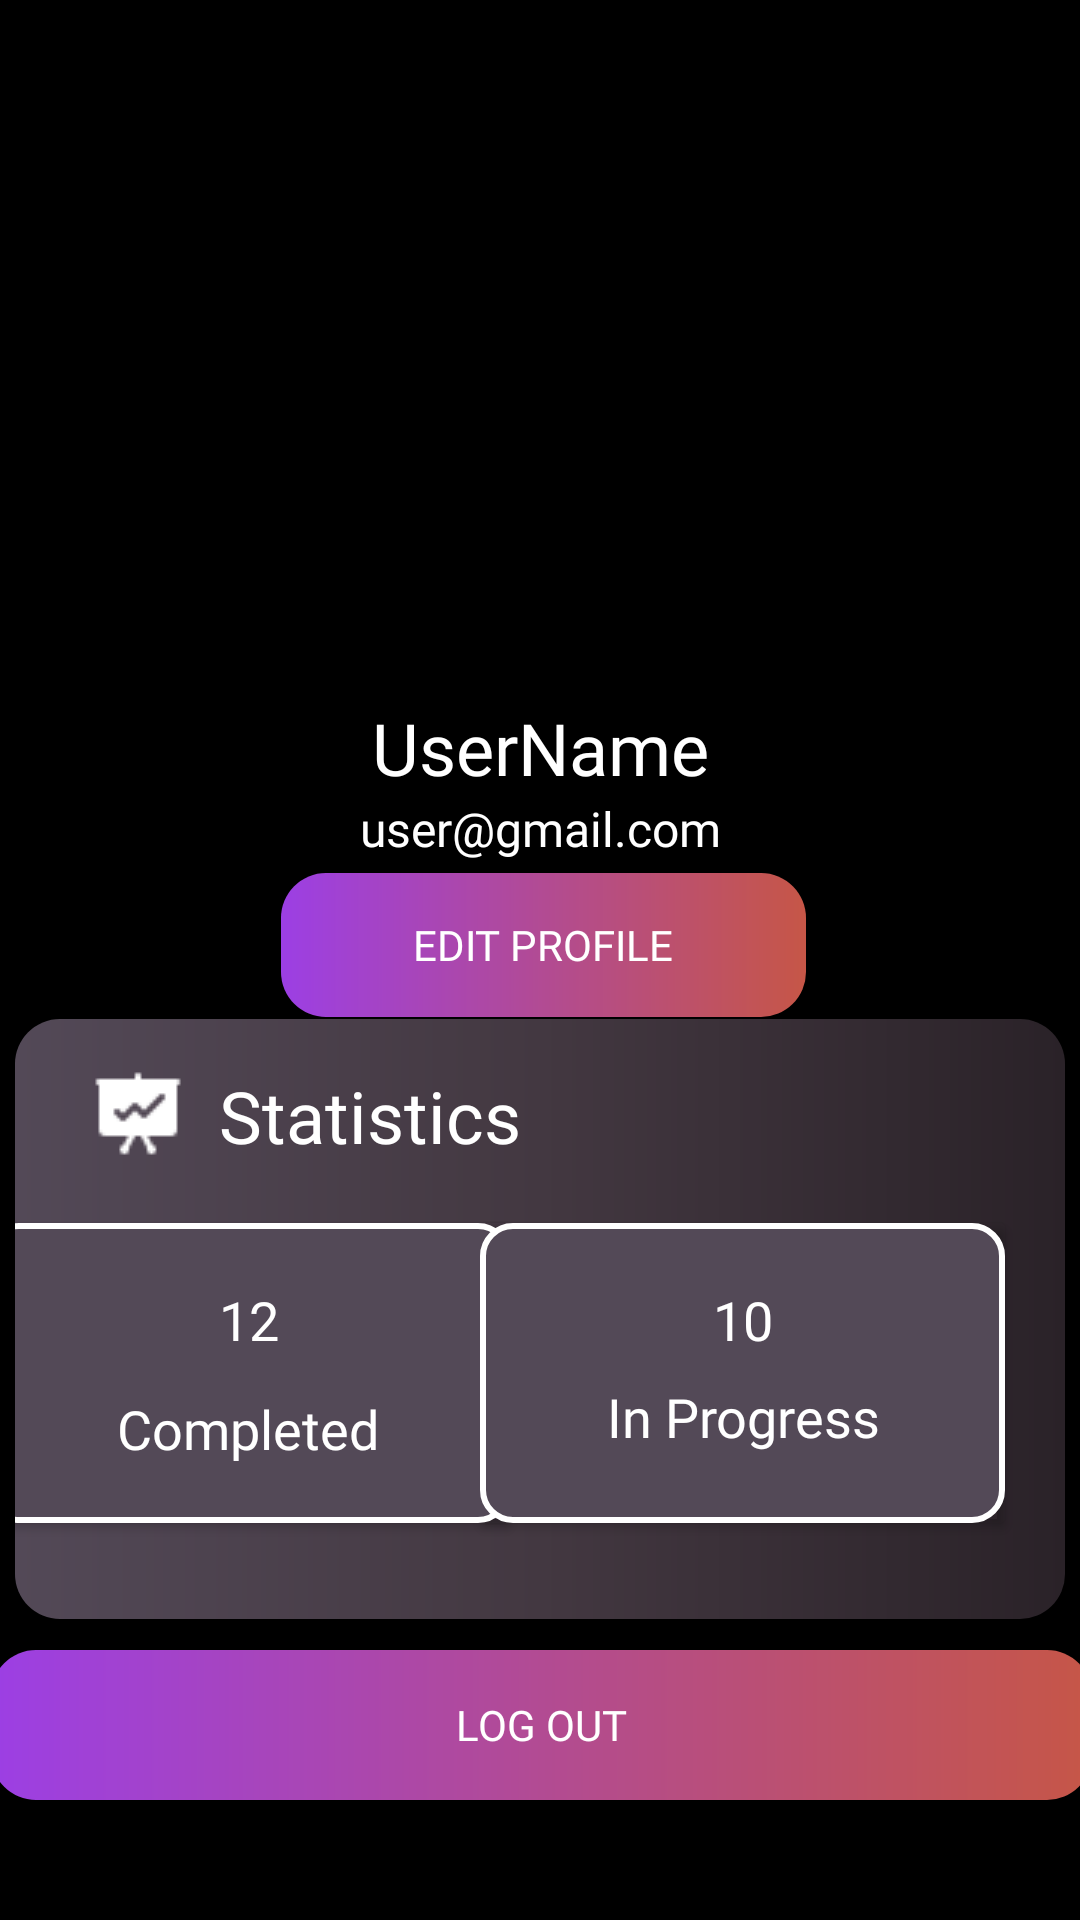

Where to tap for icons on this 1080x1920 app screen, as [x,y]:
stats: [138,1113]
